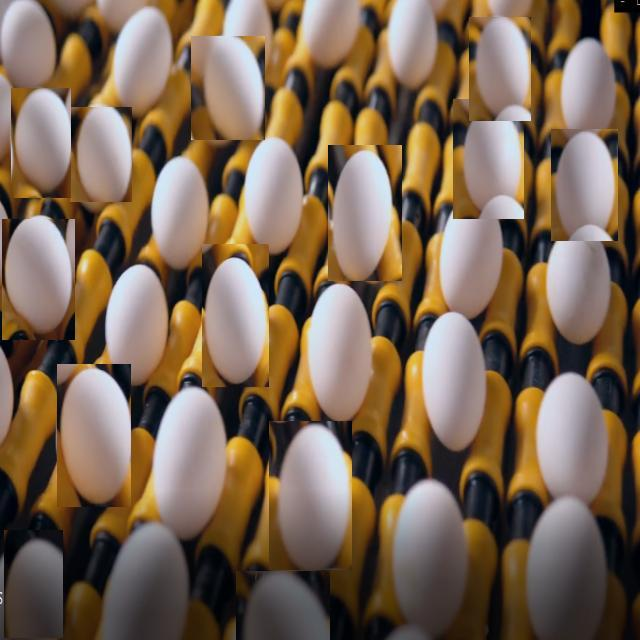Egg: (518, 492, 612, 632), (269, 421, 352, 570), (155, 382, 233, 538), (393, 481, 471, 628), (304, 278, 380, 428), (100, 520, 194, 640), (57, 364, 132, 507), (417, 314, 492, 456), (100, 252, 186, 375), (536, 375, 616, 506), (328, 146, 402, 282), (202, 244, 269, 387), (546, 215, 612, 357), (438, 198, 511, 326), (2, 219, 75, 340), (453, 99, 524, 219), (240, 136, 310, 254), (192, 36, 266, 140), (146, 148, 213, 261), (551, 129, 618, 241), (561, 34, 622, 152), (109, 8, 181, 105), (12, 89, 72, 198), (236, 571, 330, 640), (469, 17, 531, 121), (4, 530, 63, 638), (70, 107, 132, 202)
